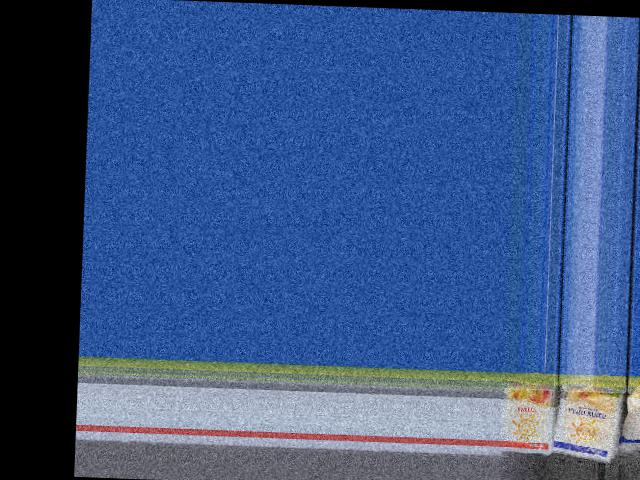cheese: (497, 371, 555, 458)
